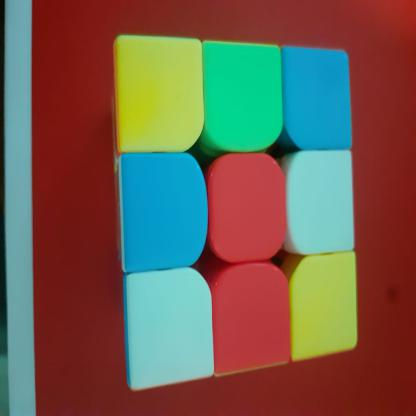cube: (109, 29, 361, 396)
